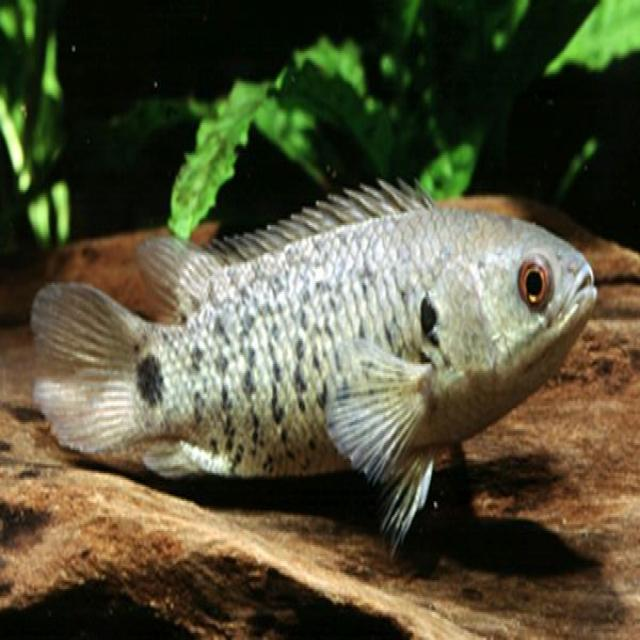Climbing-Perch: (2, 133, 585, 521)
